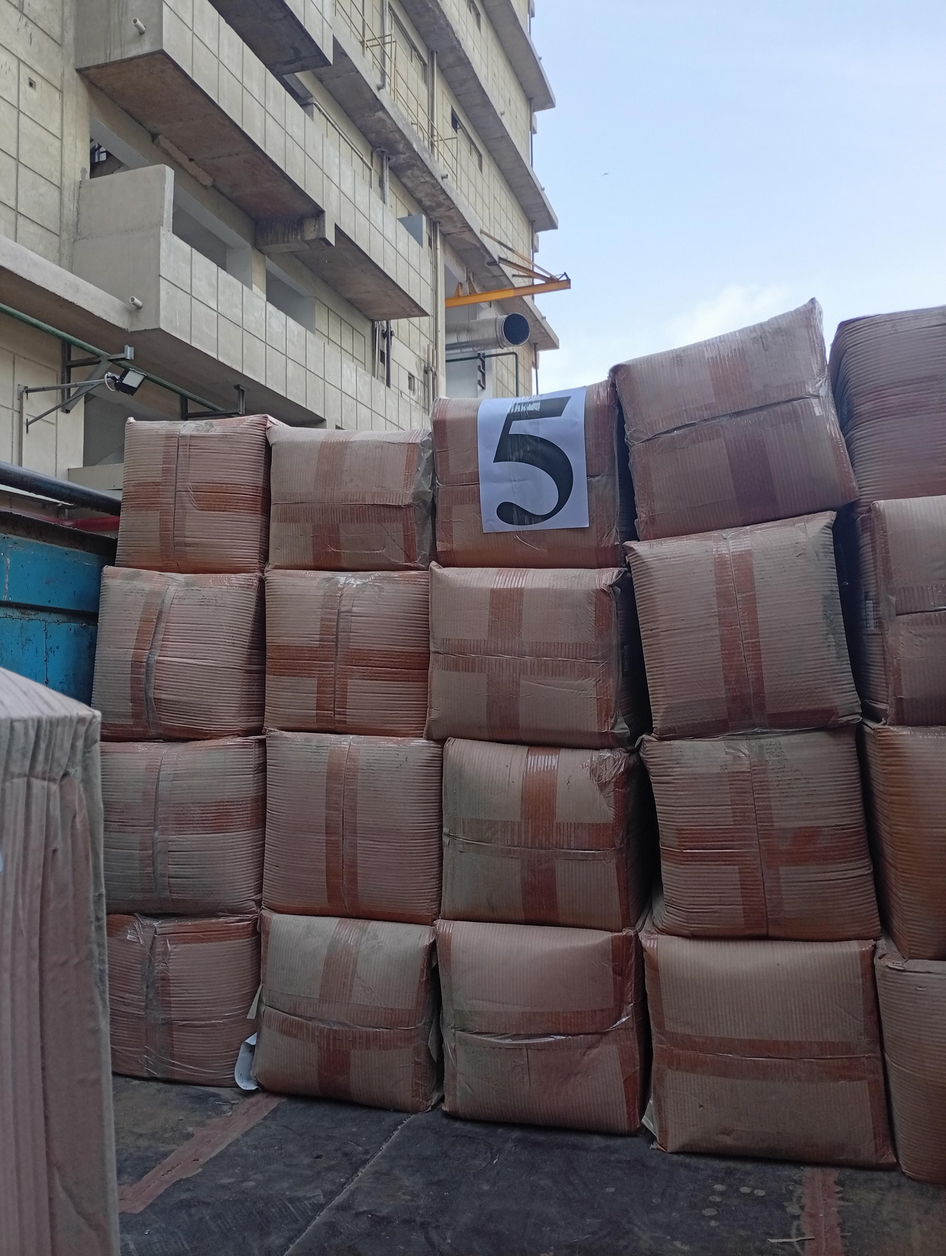carton: (611, 303, 851, 540), (646, 935, 891, 1166), (625, 514, 859, 737), (640, 730, 880, 940), (437, 922, 648, 1133), (426, 565, 649, 748), (440, 741, 653, 930), (254, 911, 441, 1112), (433, 379, 628, 567), (263, 732, 444, 924), (91, 567, 265, 741), (100, 737, 266, 917), (265, 568, 430, 737), (106, 914, 261, 1087), (835, 491, 946, 726), (267, 423, 435, 571), (117, 414, 271, 574), (832, 300, 946, 503), (859, 721, 946, 961), (875, 944, 946, 1186)
